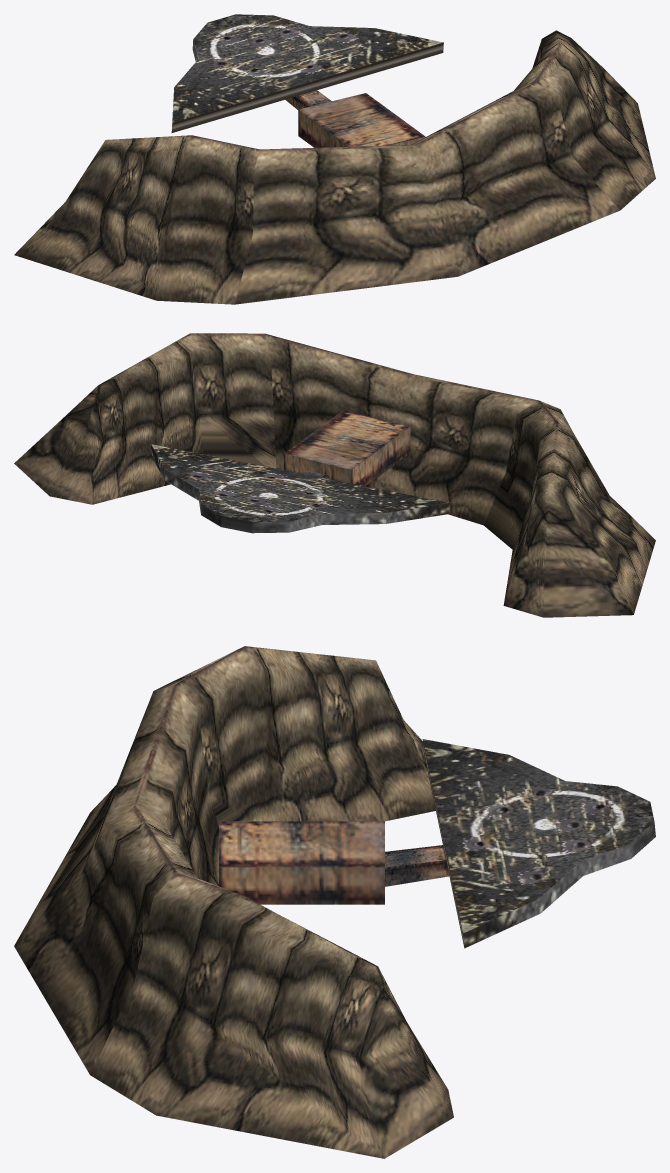
File: Targt02X.glb
3 views of the same model, one above another, from view 1: azimuth 30°, elevation 25°; view 2: azimuth 150°, elevation 25°; view 3: azimuth 270°, elevation 25° (orthographic). The views are drawn at different scales.
Visible parts, largest first — view 1: _Targt02X; view 2: _Targt02X; view 3: _Targt02X.
Boxes of the visible parts, x1,y1,x2,y2 form: _Targt02X: [14, 14, 655, 304]; _Targt02X: [14, 333, 655, 617]; _Targt02X: [14, 646, 655, 1158].
Bounding box in the file's own units: 3.47 × 0.6694 × 2.22.
Materials: 1 (1 with a texture image).
